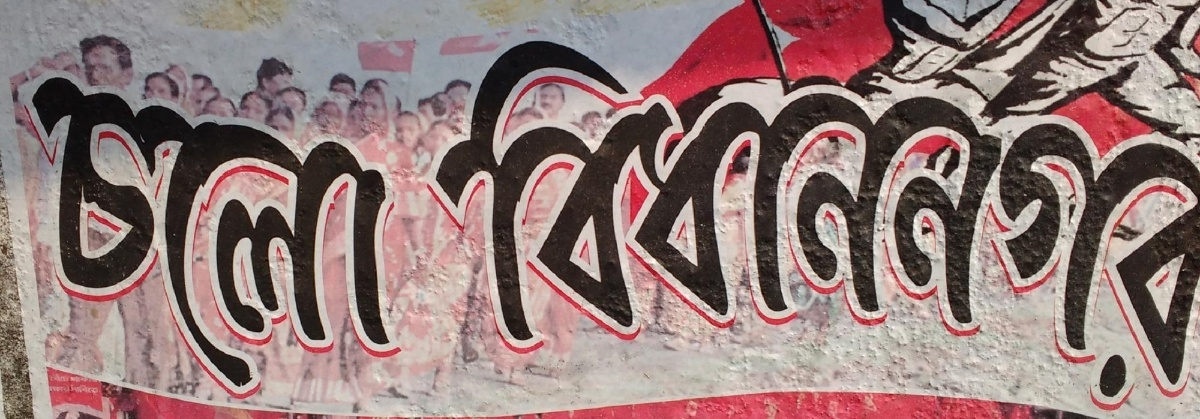text: (433, 40, 448, 415), (449, 40, 464, 415), (465, 40, 480, 415), (481, 40, 496, 415), (497, 40, 512, 415), (513, 40, 528, 415), (529, 40, 544, 415), (545, 40, 560, 415), (561, 40, 576, 415), (577, 40, 592, 415), (593, 40, 608, 415), (609, 40, 624, 415), (625, 40, 640, 415), (641, 40, 656, 415), (657, 40, 672, 415), (673, 40, 688, 415), (689, 40, 704, 415), (705, 40, 720, 415), (721, 40, 736, 415), (737, 40, 752, 415), (753, 40, 768, 415), (769, 40, 784, 415), (785, 40, 800, 415), (801, 40, 816, 415), (817, 40, 832, 415), (833, 40, 848, 415), (849, 40, 864, 415), (865, 40, 880, 415), (881, 40, 896, 415), (897, 40, 912, 415), (913, 40, 928, 415), (929, 40, 944, 415), (945, 40, 960, 415), (961, 40, 976, 415), (977, 40, 992, 415), (993, 40, 1008, 415), (1009, 40, 1024, 415), (1025, 40, 1040, 415), (1041, 40, 1056, 415), (1057, 40, 1072, 415), (1073, 40, 1088, 415), (1089, 40, 1104, 415), (1105, 40, 1120, 415), (1121, 40, 1136, 415), (1137, 40, 1152, 415), (1153, 40, 1168, 415), (1169, 40, 1184, 415), (1185, 40, 1200, 415), (17, 65, 32, 407), (33, 65, 48, 407), (49, 65, 64, 407), (65, 65, 80, 407), (81, 65, 96, 407), (97, 65, 112, 407), (113, 65, 128, 407), (129, 65, 144, 407), (145, 65, 160, 407), (161, 65, 176, 407), (177, 65, 192, 407), (193, 65, 208, 407), (209, 65, 224, 407), (225, 65, 240, 407), (241, 65, 256, 407), (257, 65, 272, 407), (273, 65, 288, 407), (289, 65, 304, 407), (305, 65, 320, 407), (321, 65, 336, 407), (337, 65, 352, 407), (353, 65, 368, 407), (369, 65, 384, 407), (385, 65, 400, 407), (422, 40, 432, 415), (401, 65, 410, 407), (11, 65, 16, 407), (65, 385, 80, 395), (81, 385, 96, 395), (50, 385, 64, 395), (50, 374, 64, 384), (81, 377, 96, 384), (69, 377, 80, 384), (65, 374, 70, 384), (97, 385, 101, 395), (97, 377, 102, 384)
